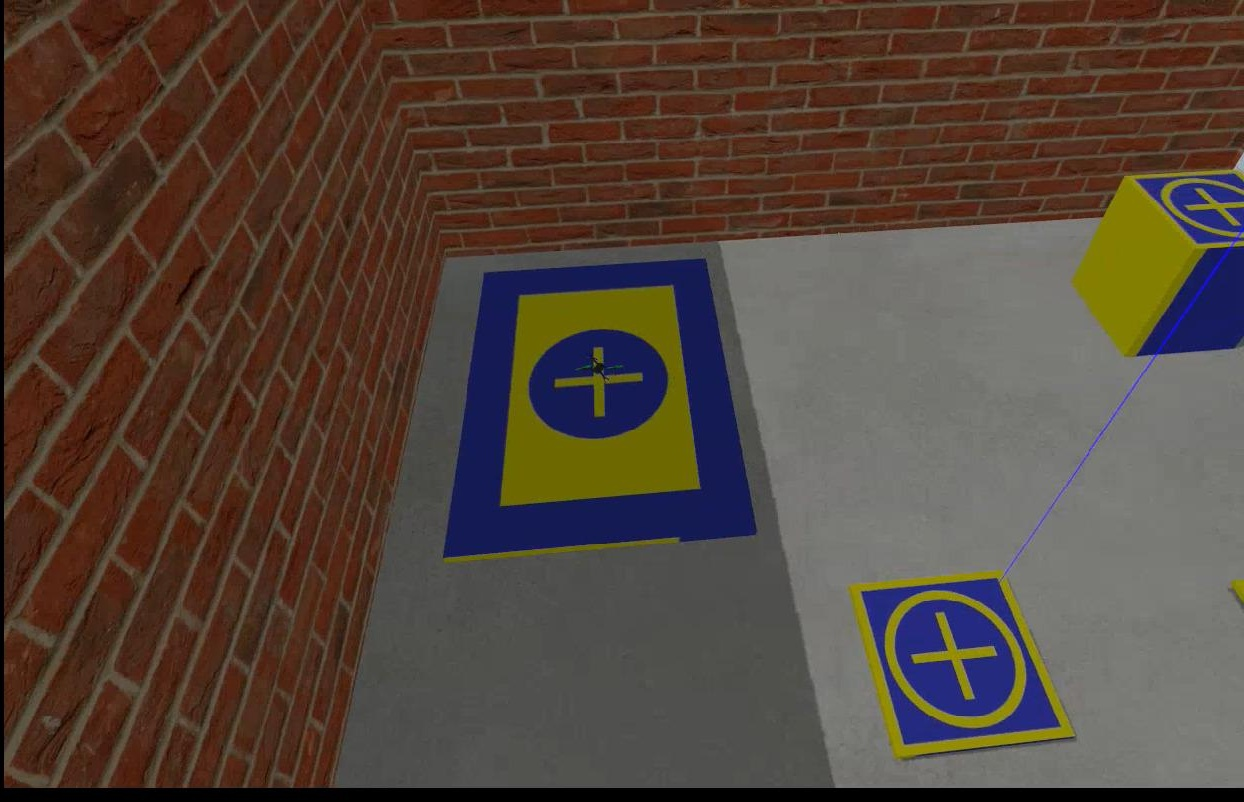large_base: (435, 250, 755, 567)
small_base: (846, 571, 1068, 755), (1121, 164, 1242, 267)
